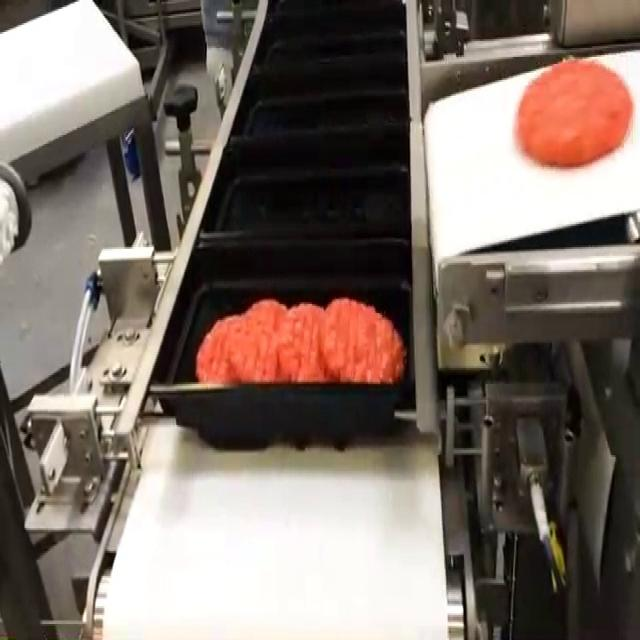4-hamburguer: (196, 299, 403, 382)
hamburguer: (515, 60, 634, 171)
